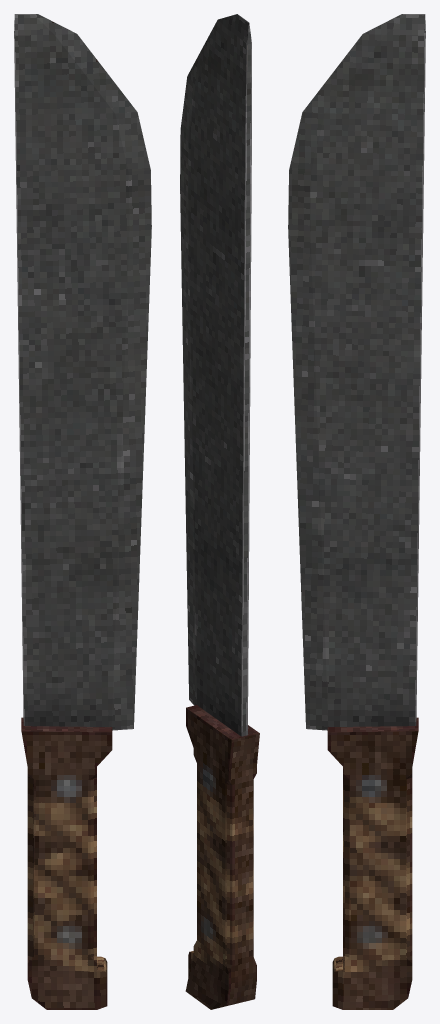
File: horror_machete.glb
The picture shows the model from 3 angles, left to right: view 1: azimuth 90°, elevation 25°; view 2: azimuth 210°, elevation 25°; view 3: azimuth 270°, elevation 25°; orthographic projection.
Visible parts, largest first — view 1: Machete; view 2: Machete; view 3: Machete.
Part boxes in pixels (bbox=[...]): Machete: bbox=[14, 14, 151, 1009]; Machete: bbox=[180, 14, 259, 1009]; Machete: bbox=[288, 14, 425, 1009].
Bounding box in the file's own units: 0.0955 × 2.06 × 0.2605.
Materials: 1 (1 with a texture image).
